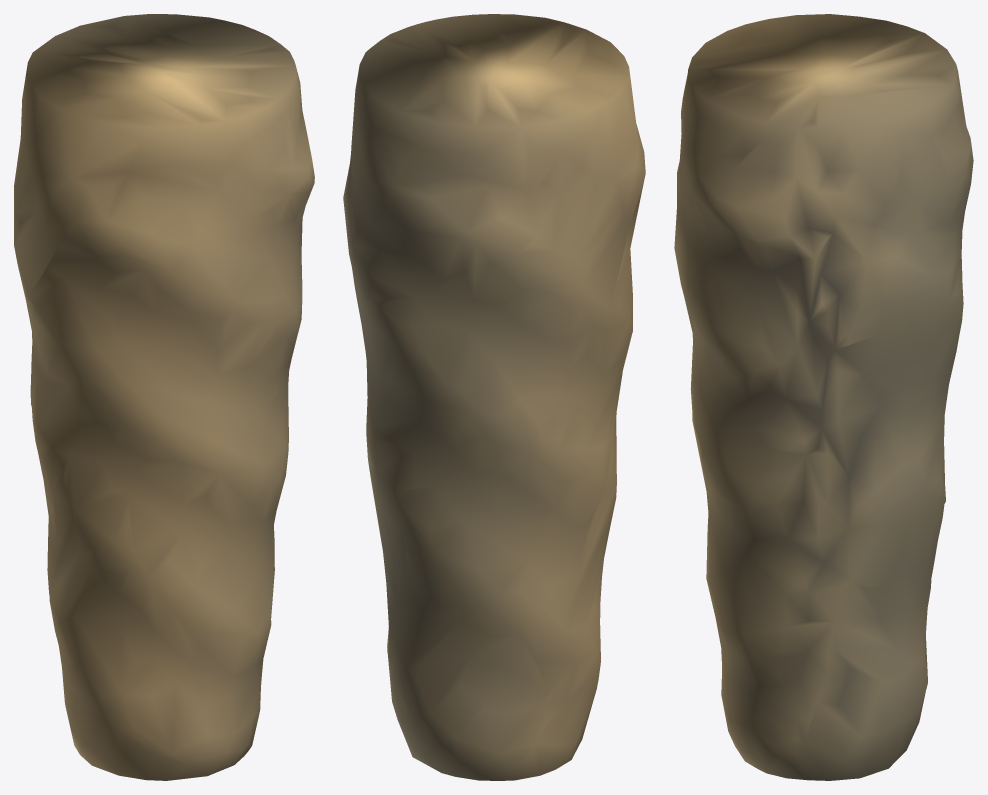
The model's file is hero_thigh_l.glb.
3 renders of one model, left to right at view 1: azimuth 30°, elevation 25°; view 2: azimuth 150°, elevation 25°; view 3: azimuth 270°, elevation 25°, orthographic.
Parts seen in each view (by area): view 1: geometry_0; view 2: geometry_0; view 3: geometry_0.
Part boxes in pixels (x1=…): geometry_0: x1=14, y1=14, x2=314, y2=780; geometry_0: x1=343, y1=14, x2=645, y2=780; geometry_0: x1=674, y1=14, x2=973, y2=780.
Size of the model in its own units: 0.1872 by 0.4686 by 0.1883.
